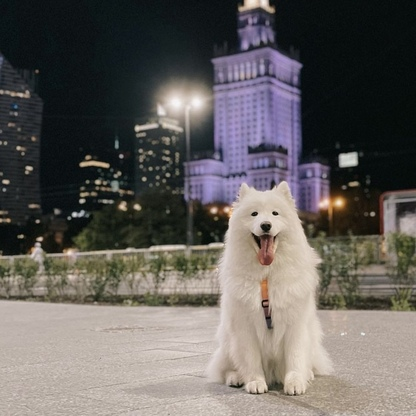samoyed: (202, 177, 340, 402)
